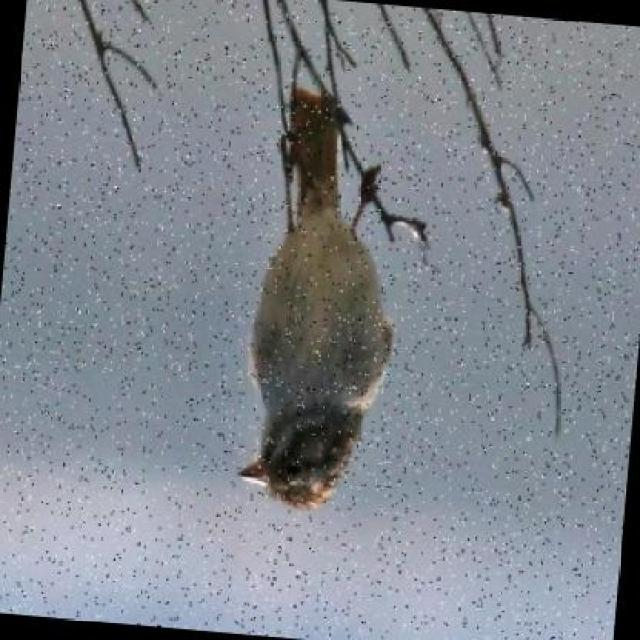Bird: (238, 83, 414, 489)
